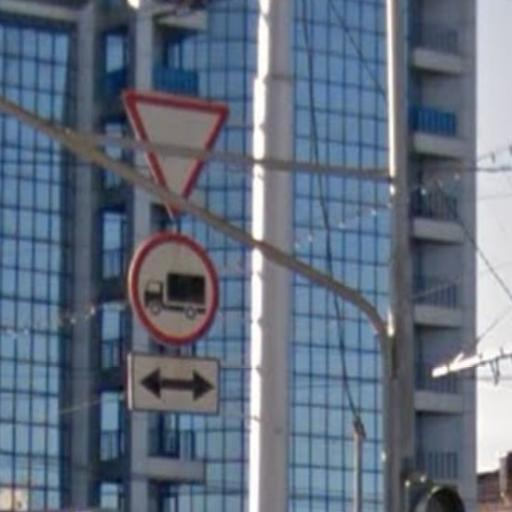traffic_sign: (118, 85, 233, 224), (124, 228, 222, 351)
